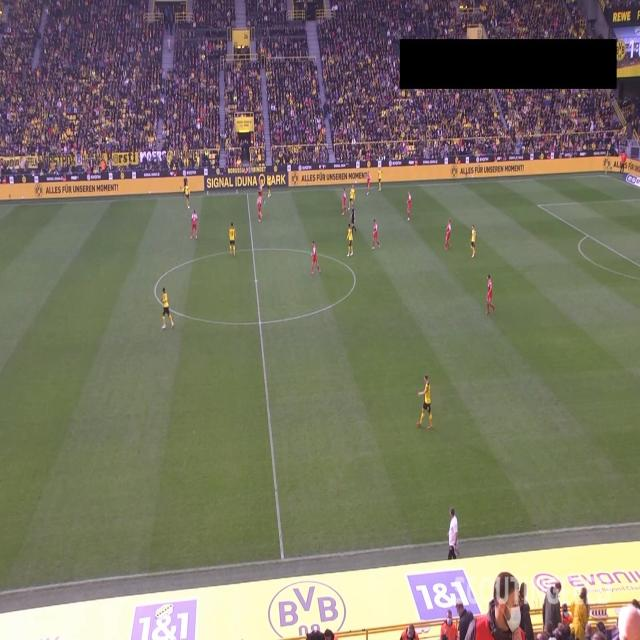ball: (187, 204, 190, 210)
